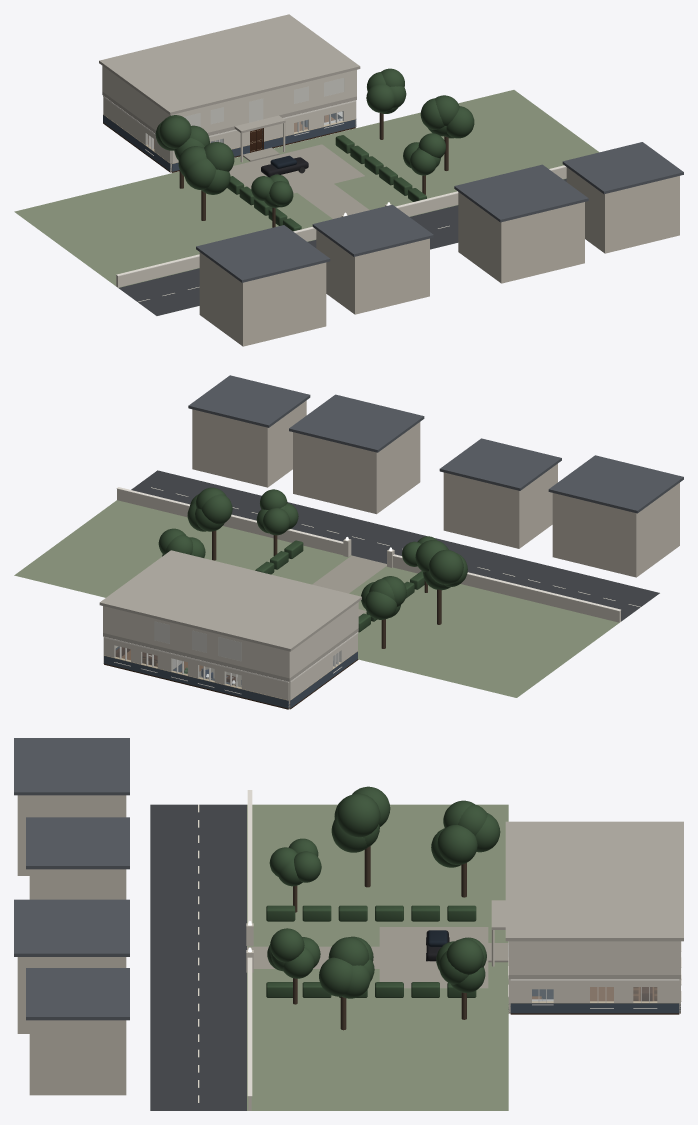
The model's file is hades-1f.glb.
3 views of the same model, one above another, from view 1: azimuth 30°, elevation 25°; view 2: azimuth 150°, elevation 25°; view 3: azimuth 270°, elevation 25° (orthographic). The views are drawn at different scales.
Parts seen in each view (by area): view 1: Z07_lawn, F2_shell.001, box.403, box.407, box.405, F2_shell, box.409, box.408, box.404, Z07_street, box.406, box.410 (+15 smaller); view 2: Z07_lawn, F2_shell.001, Z07_street, box.403, box.407, F2_shell, box.405, box.409, box.404, box.408, box.410, box.406 (+12 smaller); view 3: Z07_lawn, Z07_street, F2_shell.001, box.409, box.404, box.408, F2_shell, box.406, box.410, Z07_forecourt, box.403, box.405 (+18 smaller).
Boxes of the visible parts, box(x1,y1,x2,y2) form: Z07_lawn: box(14, 90, 598, 287); F2_shell.001: box(99, 14, 360, 115); box.403: box(199, 252, 326, 346); box.407: box(458, 192, 584, 283); box.405: box(316, 230, 429, 314); F2_shell: box(102, 66, 356, 132); box.409: box(566, 167, 679, 253); box.408: box(454, 164, 588, 222); box.404: box(196, 225, 330, 282); Z07_street: box(118, 178, 566, 315); box.406: box(312, 204, 433, 256); box.410: box(562, 142, 683, 194); Z07_lawn: box(14, 500, 621, 697); F2_shell.001: box(99, 550, 361, 651); Z07_street: box(131, 470, 659, 621); box.403: box(552, 483, 679, 577); box.407: box(293, 422, 420, 514); F2_shell: box(103, 602, 358, 678); box.405: box(443, 463, 557, 548); box.409: box(192, 400, 306, 487); box.404: box(548, 455, 683, 513); box.408: box(289, 394, 424, 452); box.410: box(188, 375, 310, 427); box.406: box(439, 438, 561, 490); Z07_lawn: box(247, 804, 508, 1110); Z07_street: box(150, 804, 246, 1110); F2_shell.001: box(505, 821, 683, 941); box.409: box(29, 1020, 126, 1095); box.404: box(14, 738, 129, 795); box.408: box(14, 899, 129, 956); F2_shell: box(508, 941, 680, 974); box.406: box(26, 817, 129, 869); box.410: box(26, 968, 129, 1020); Z07_forecourt: box(379, 927, 488, 988); box.403: box(17, 795, 126, 875); box.405: box(29, 869, 126, 899).
Size of the model in its own units: 60 by 8.84 by 55.5.
